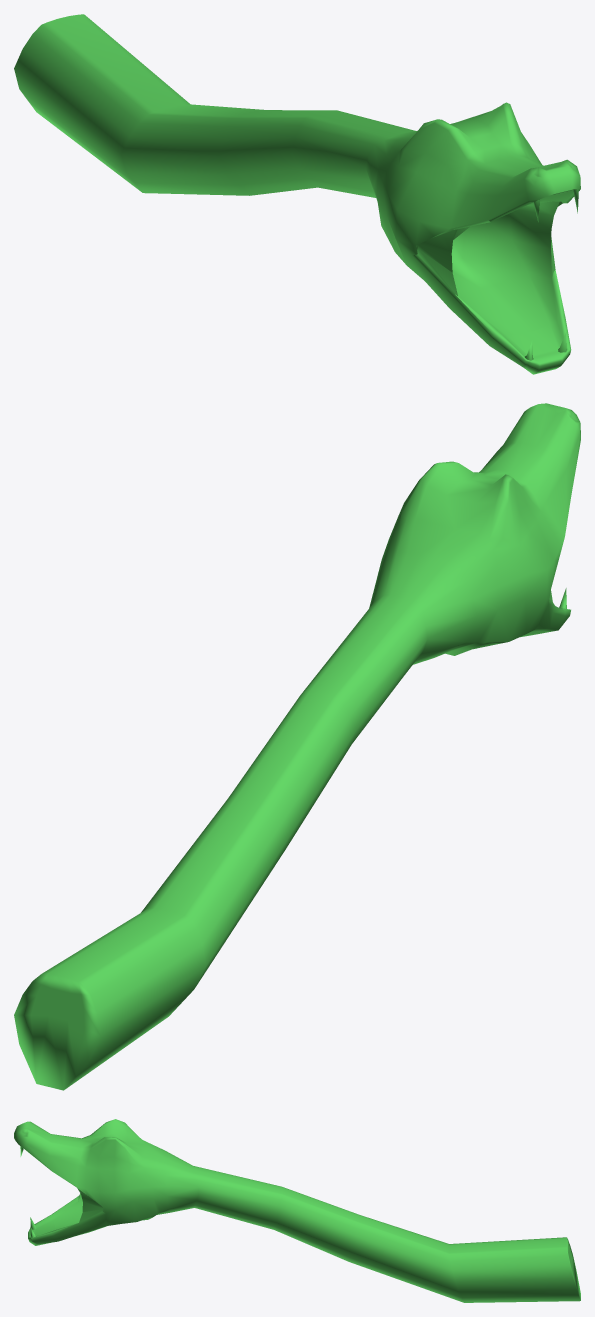
File: hebi_test7.fbx
3 views of the same model, one above another, from view 1: azimuth 30°, elevation 25°; view 2: azimuth 150°, elevation 25°; view 3: azimuth 270°, elevation 25° (orthographic). The views are drawn at different scales.
Visible parts, largest first — view 1: pCube4; view 2: pCube4; view 3: pCube4.
Part boxes in pixels (<box>): pCube4: <box>14,14,580,374</box>; pCube4: <box>14,403,580,1090</box>; pCube4: <box>14,1119,580,1302</box>.
Bounding box in the file's own units: 9.75 × 19.5 × 57.52.
